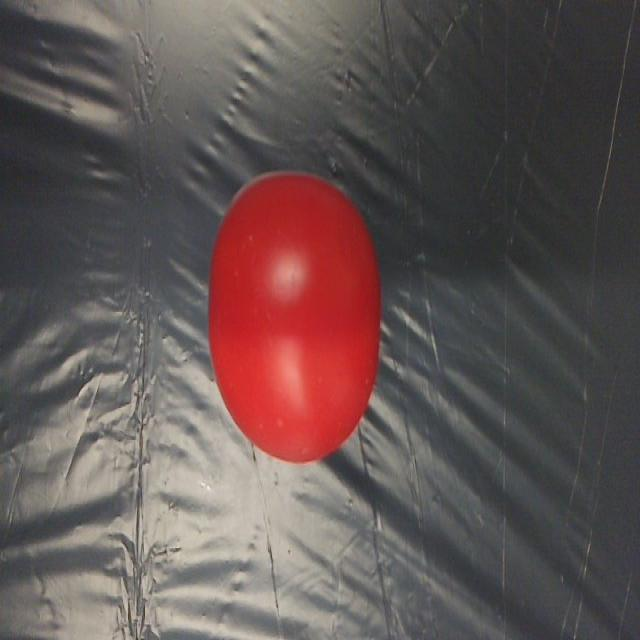kirmizi: (200, 170, 383, 464)
